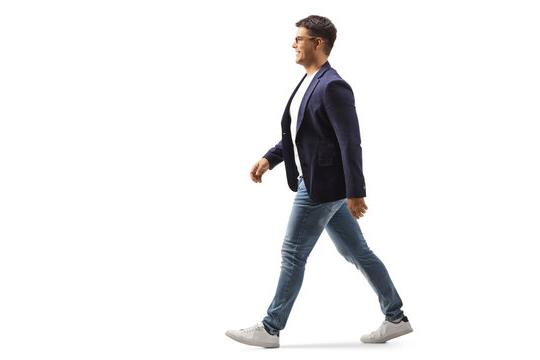jacket: (259, 60, 366, 205)
short sleeve shirt: (288, 66, 320, 180)
trousers: (263, 176, 407, 334)
